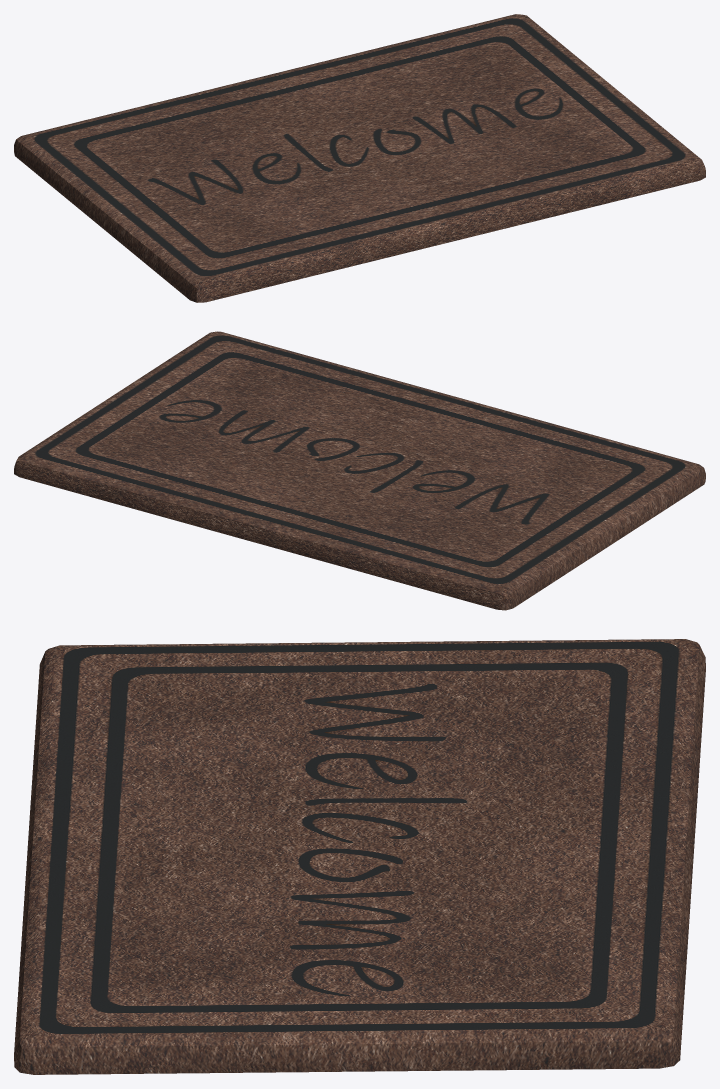
The model's file is rug-test2horizontal.glb.
The picture shows the model from 3 angles, top to bottom: view 1: azimuth 30°, elevation 25°; view 2: azimuth 150°, elevation 25°; view 3: azimuth 270°, elevation 25°; orthographic projection. The views are drawn at different scales.
Parts seen in each view (by area): view 1: SM_Doormat_M_Doormat_0; view 2: SM_Doormat_M_Doormat_0; view 3: SM_Doormat_M_Doormat_0.
Boxes of the visible parts, x1,y1,x2,y2 form: SM_Doormat_M_Doormat_0: (14, 14, 705, 302); SM_Doormat_M_Doormat_0: (14, 331, 705, 610); SM_Doormat_M_Doormat_0: (14, 639, 705, 1074).
Bounding box in the file's own units: 0.6098 × 0.0389 × 0.4154.
1 material, 1 textured.
